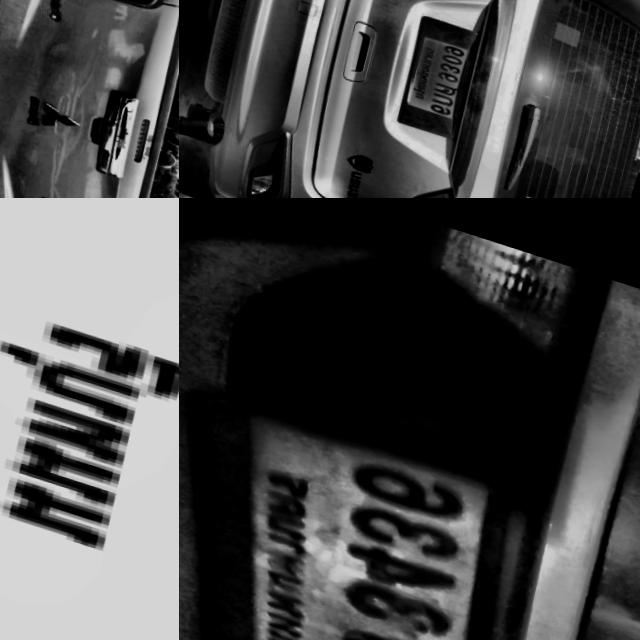license-plate: (179, 398, 520, 640), (0, 198, 179, 640), (401, 26, 475, 118)
